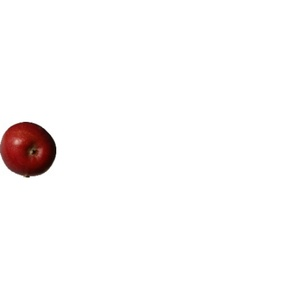maçã braeburn: (1, 117, 59, 182)
